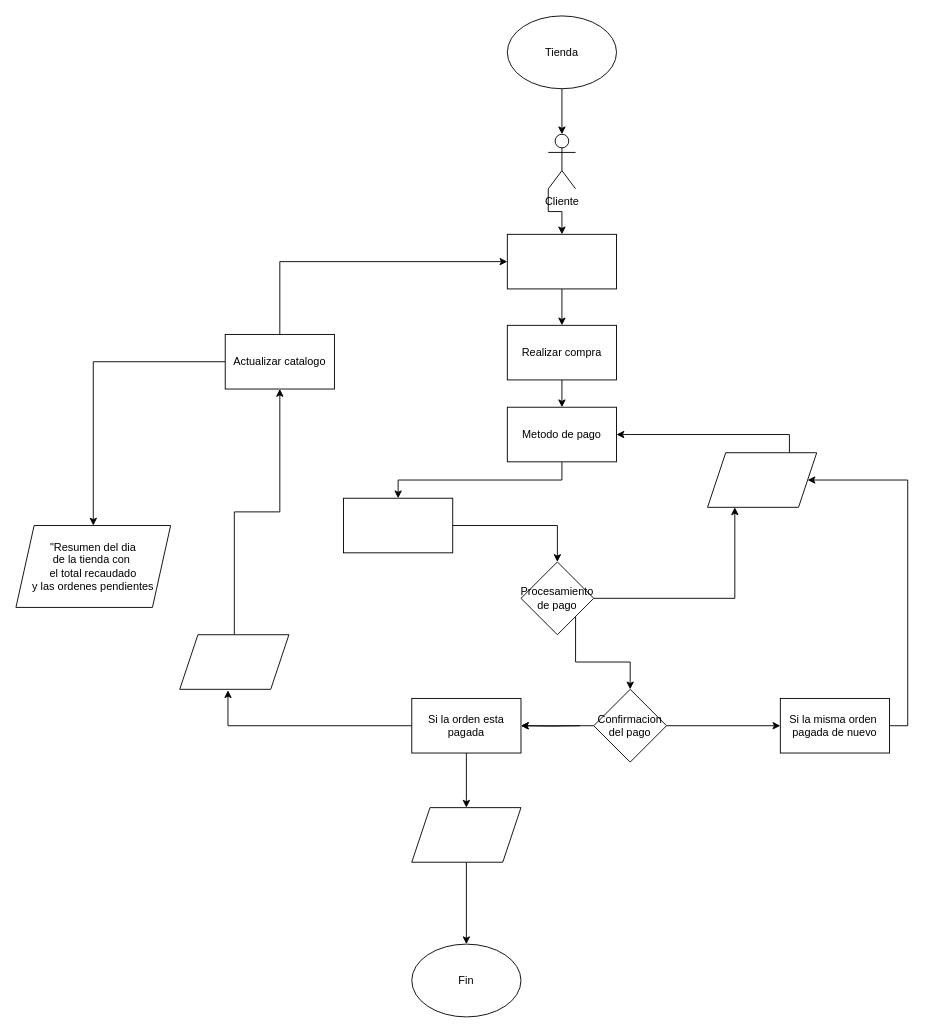
The diagram is 931 pixels wide and 1033 high, and some of its shapes have lost their labels. Each missing label, with the centre of its shape:
"Generar orden de pago": point (466, 834)
"No se pudo procesar el pago, intenta de nuevo: point (762, 479)
"Pago hecho con exito": point (234, 661)
Catalogo de cosas: point (561, 261)
Pagar orden: point (398, 525)
